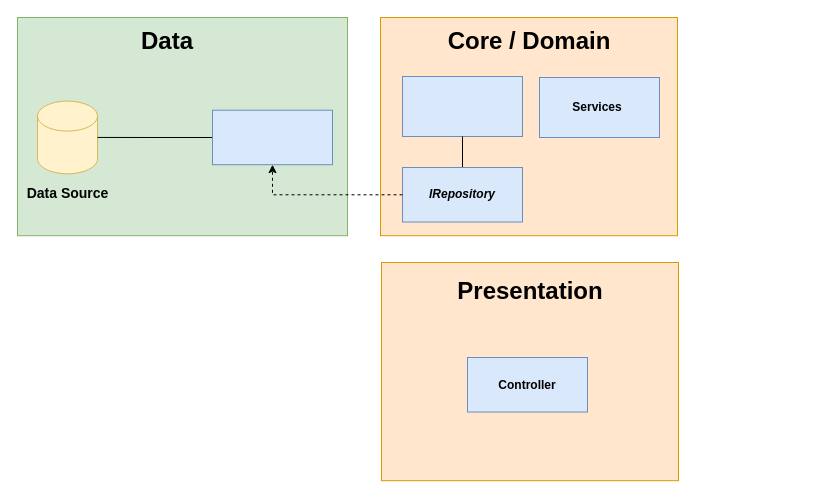
Image size: 835x499. Some labels were removed from this diagram. The centre of each missing label's shape, as x and y in pixels:
Models: the point at 462,106
Repository: the point at 272,137
